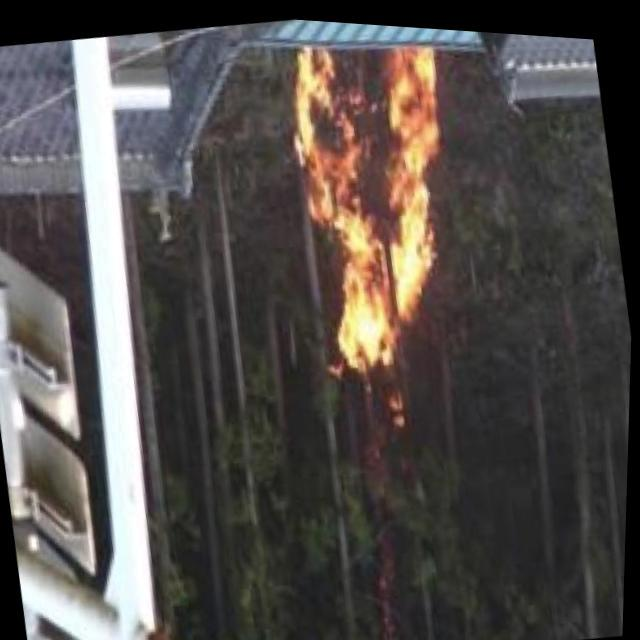fire: (265, 22, 487, 394)
